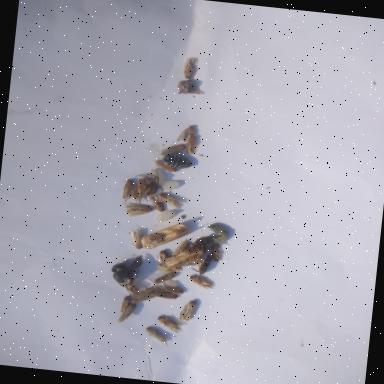abw: (160, 238, 208, 279), (139, 219, 189, 258)
pbw: (142, 325, 173, 349), (185, 273, 218, 294), (154, 314, 184, 336), (158, 190, 187, 212), (122, 201, 154, 220), (118, 177, 136, 210), (116, 300, 138, 326), (150, 156, 178, 176), (158, 140, 186, 160), (175, 123, 199, 145), (146, 190, 168, 214), (126, 226, 146, 252), (178, 298, 199, 322), (193, 254, 213, 278), (150, 287, 179, 303), (132, 176, 148, 205), (154, 282, 187, 296), (152, 270, 178, 286), (181, 56, 198, 80), (156, 248, 173, 272), (182, 133, 198, 156), (207, 243, 224, 264), (119, 295, 134, 314)
